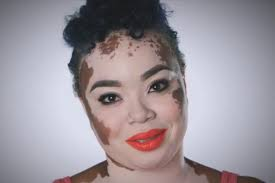vitiligo: (58, 25, 222, 173)
